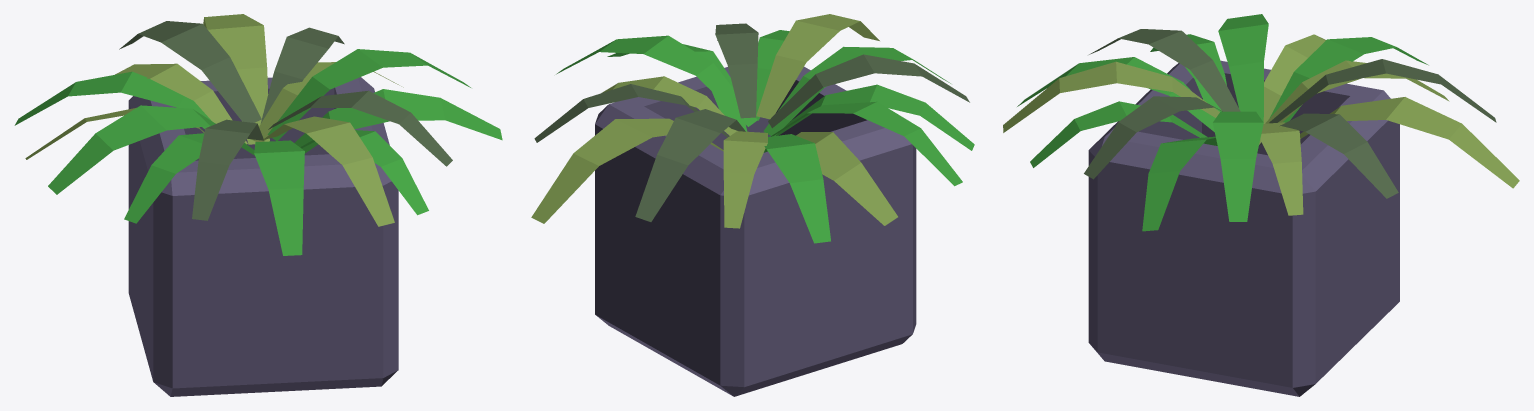
Rendered from vase_2.fbx.
The picture shows the model from 3 angles, left to right: view 1: azimuth 30°, elevation 25°; view 2: azimuth 150°, elevation 25°; view 3: azimuth 270°, elevation 25°; orthographic projection.
Visible parts, largest first — view 1: Plane.046; view 2: Plane.046; view 3: Plane.046.
Part boxes in pixels (x1,y1,x2,y2): Plane.046: [14, 14, 502, 396]; Plane.046: [531, 14, 974, 396]; Plane.046: [1003, 14, 1519, 396].
Bounding box in the file's own units: 106 × 66.42 × 116.
